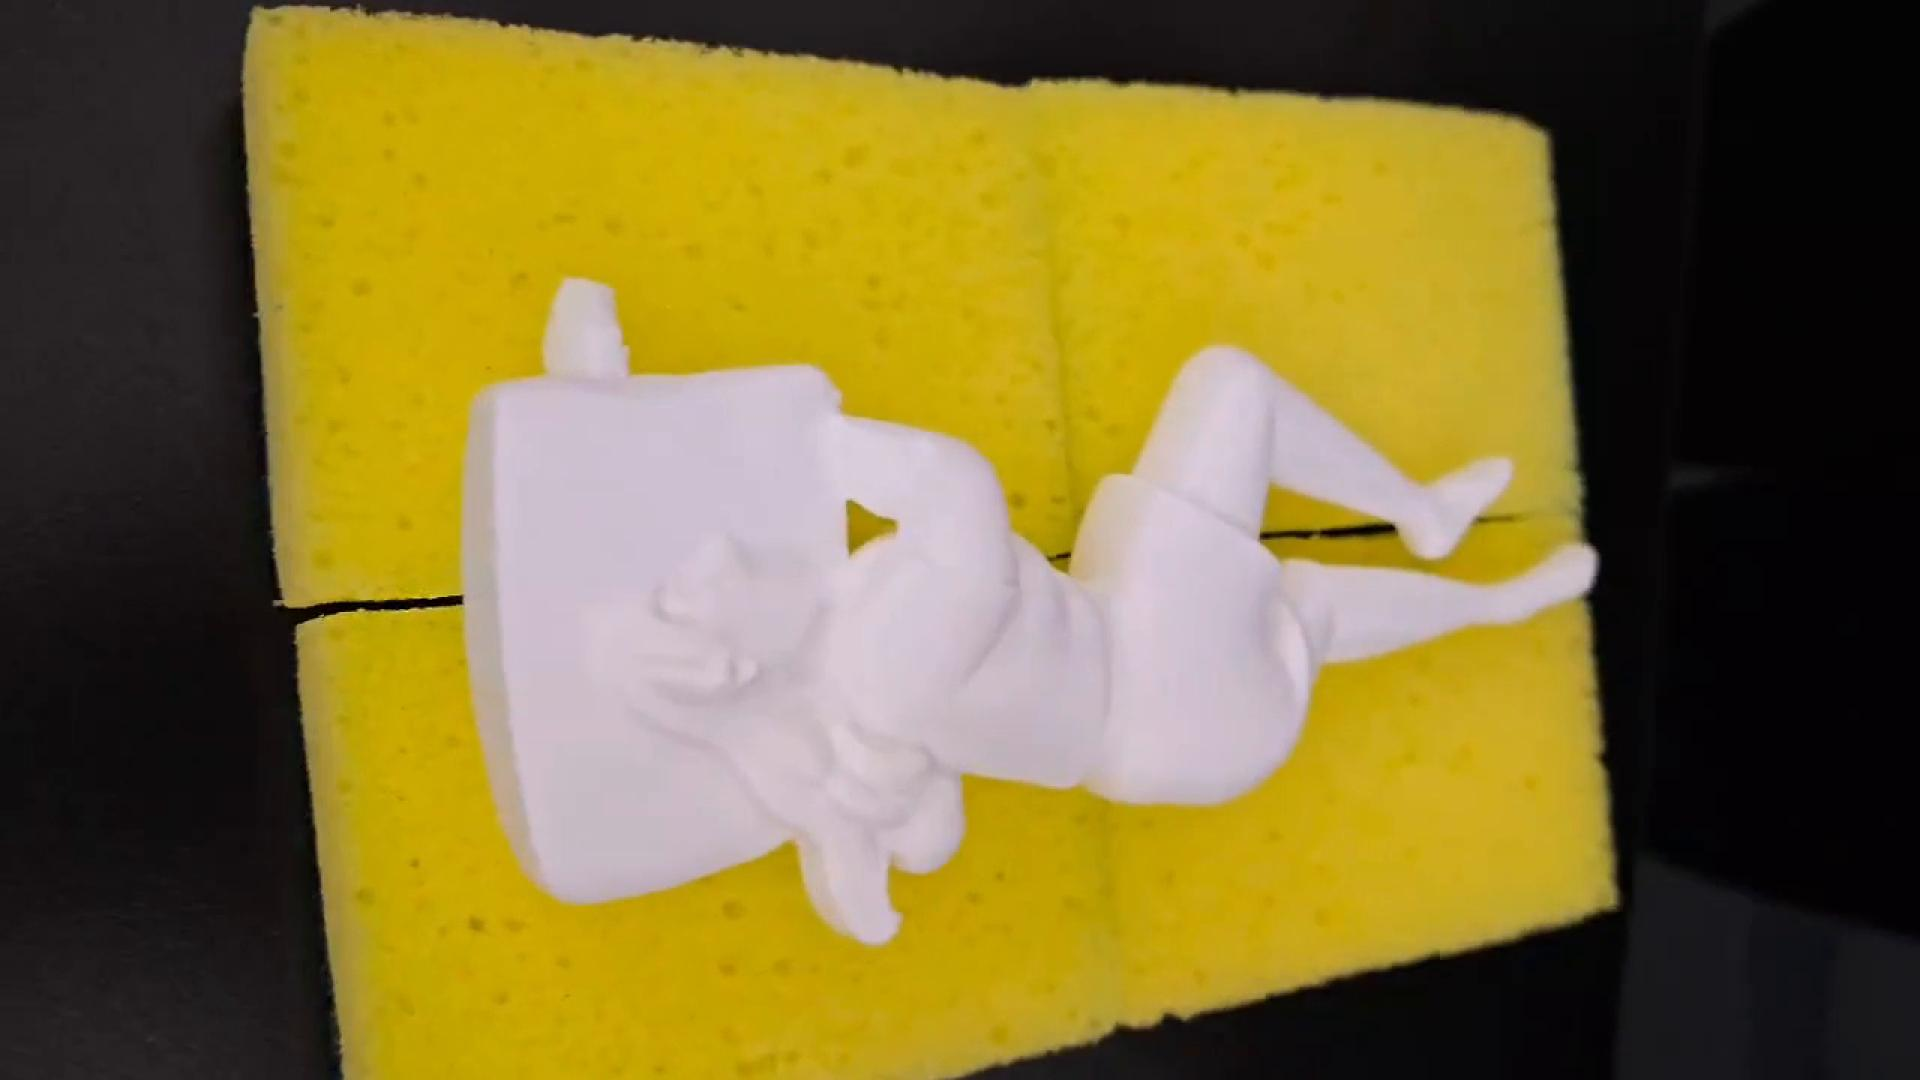Good-style: (339, 229, 1631, 953)
